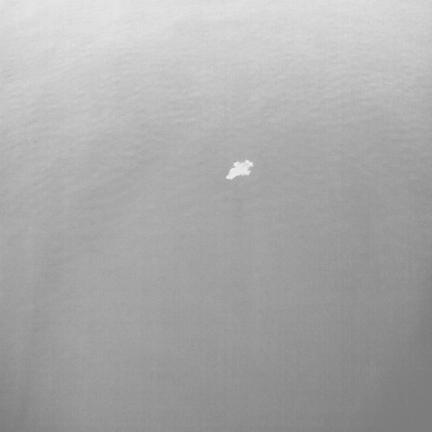flukeprints: (225, 159, 253, 180)
